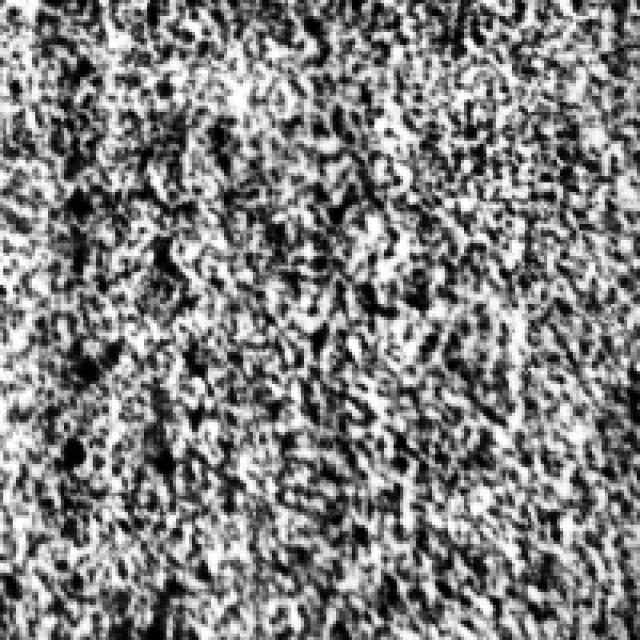Rolled_in_Scale: (25, 0, 630, 624)
